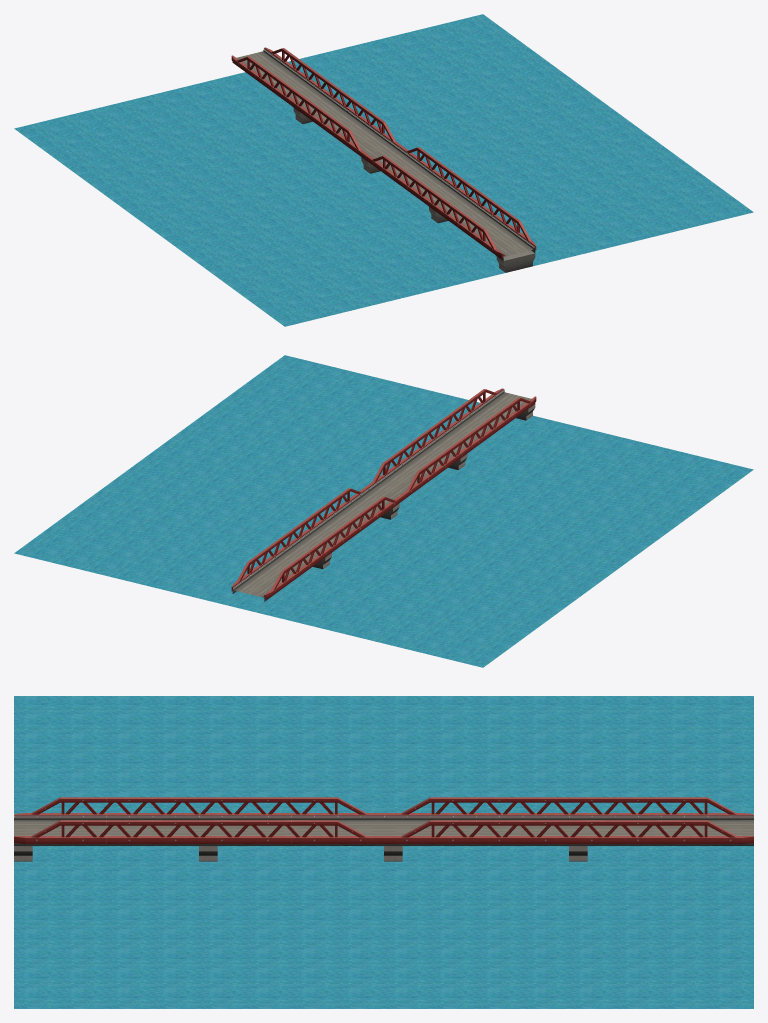
File: Track02_Low.FBX
3 views of the same model, one above another, from view 1: azimuth 30°, elevation 25°; view 2: azimuth 150°, elevation 25°; view 3: azimuth 270°, elevation 25° (orthographic). The views are drawn at different scales.
Visible parts, largest first — view 1: Wave, Guard (×2), Road (×2), Pillar; view 2: Wave, Guard (×2), Road (×2); view 3: Wave, Guard (×2), Road (×2).
Boxes of the visible parts, bbox=[...] form: Wave: bbox=[14, 14, 753, 326]; Guard (×2): bbox=[231, 47, 536, 258]; Road (×2): bbox=[232, 48, 535, 260]; Pillar: bbox=[496, 250, 535, 272]; Wave: bbox=[14, 355, 753, 667]; Guard (×2): bbox=[231, 388, 536, 599]; Road (×2): bbox=[232, 389, 535, 601]; Wave: bbox=[14, 696, 753, 1008]; Guard (×2): bbox=[14, 797, 753, 843]; Road (×2): bbox=[14, 815, 753, 845].
Size of the model in its own units: 6300 by 403 by 6300.
